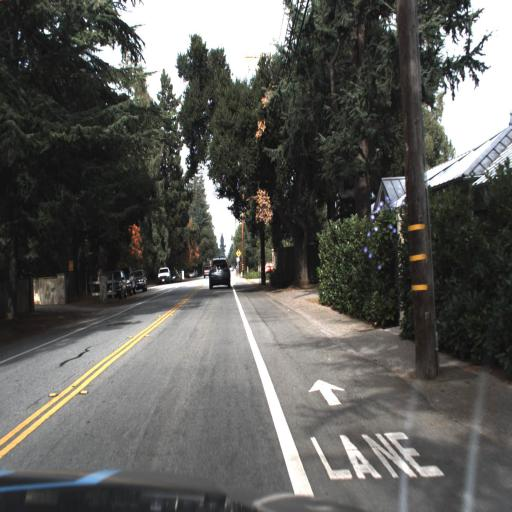car: (206, 254, 230, 291), (104, 268, 126, 299), (112, 267, 129, 300), (154, 262, 172, 288), (134, 265, 146, 290)
